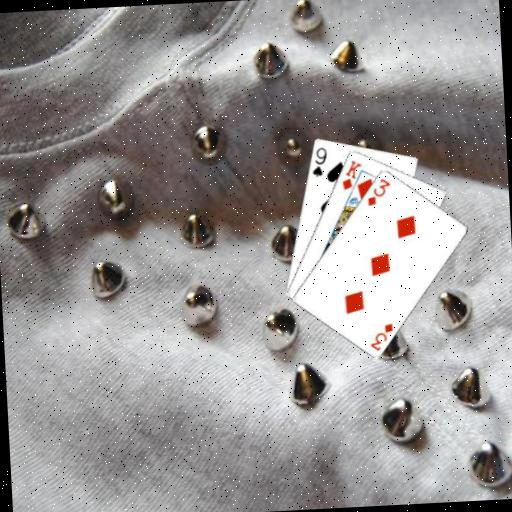3D: (363, 175, 393, 208), (367, 320, 396, 353)
9S: (308, 144, 330, 179)
KD: (338, 157, 365, 192)
